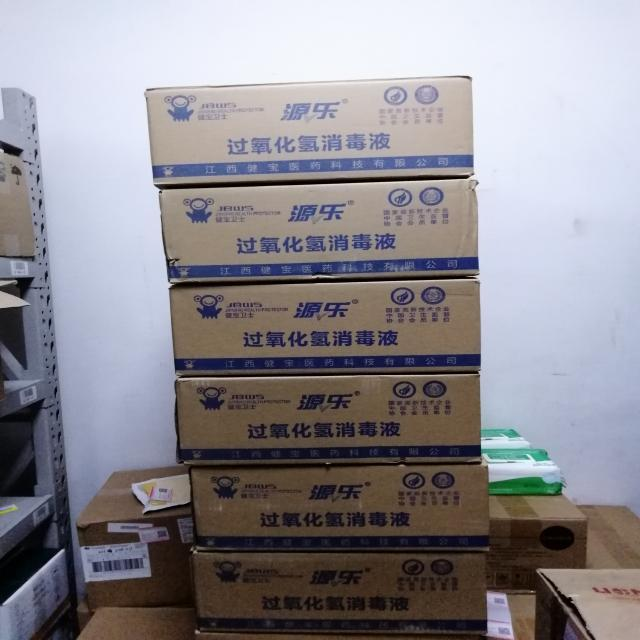box: (143, 70, 472, 176), (158, 179, 477, 273), (167, 278, 481, 373), (191, 543, 489, 637), (184, 463, 488, 553), (175, 373, 477, 459), (78, 467, 204, 610), (489, 494, 588, 591), (537, 566, 640, 640)
